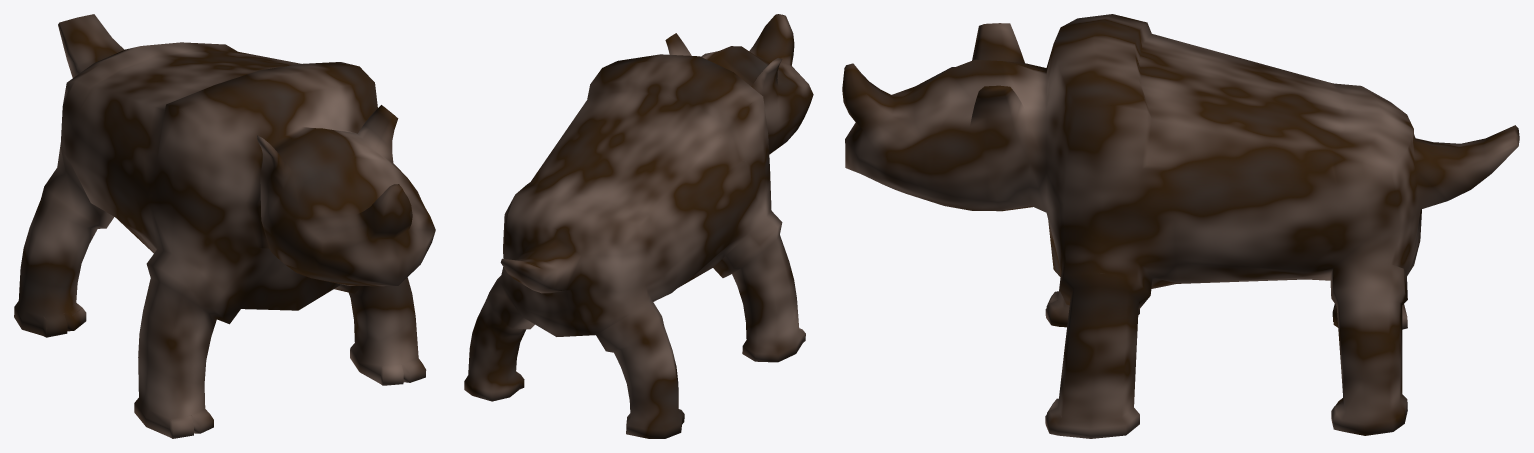
Rendered from TuguSonda.fbx.
The picture shows the model from 3 angles, left to right: view 1: azimuth 30°, elevation 25°; view 2: azimuth 150°, elevation 25°; view 3: azimuth 270°, elevation 25°; orthographic projection. The views are drawn at different scales.
Visible parts, largest first — view 1: Cube.003; view 2: Cube.003; view 3: Cube.003.
Boxes of the visible parts, x1,y1,x2,y2 form: Cube.003: [14, 14, 435, 438]; Cube.003: [464, 14, 813, 438]; Cube.003: [842, 14, 1519, 438].
Size of the model in its own units: 314 by 356 by 658.
Materials: 1 (1 with a texture image).
